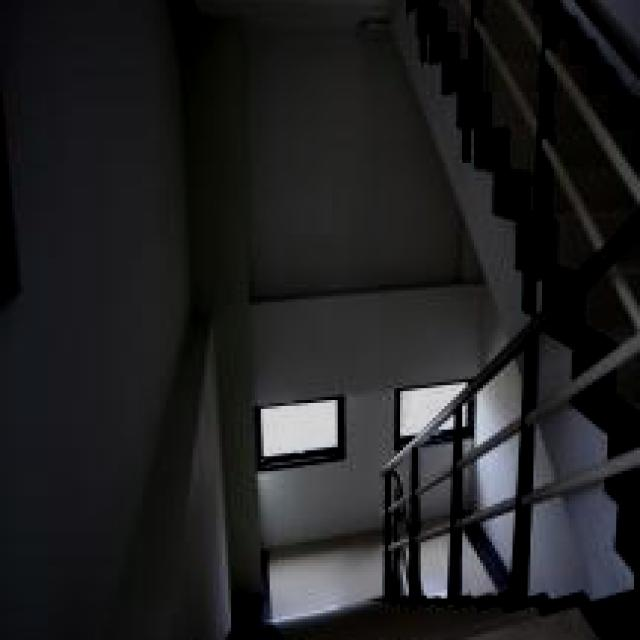downstair: (244, 626, 552, 640)
